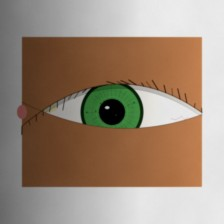pinguecula_lesion: (33, 95, 66, 121)
